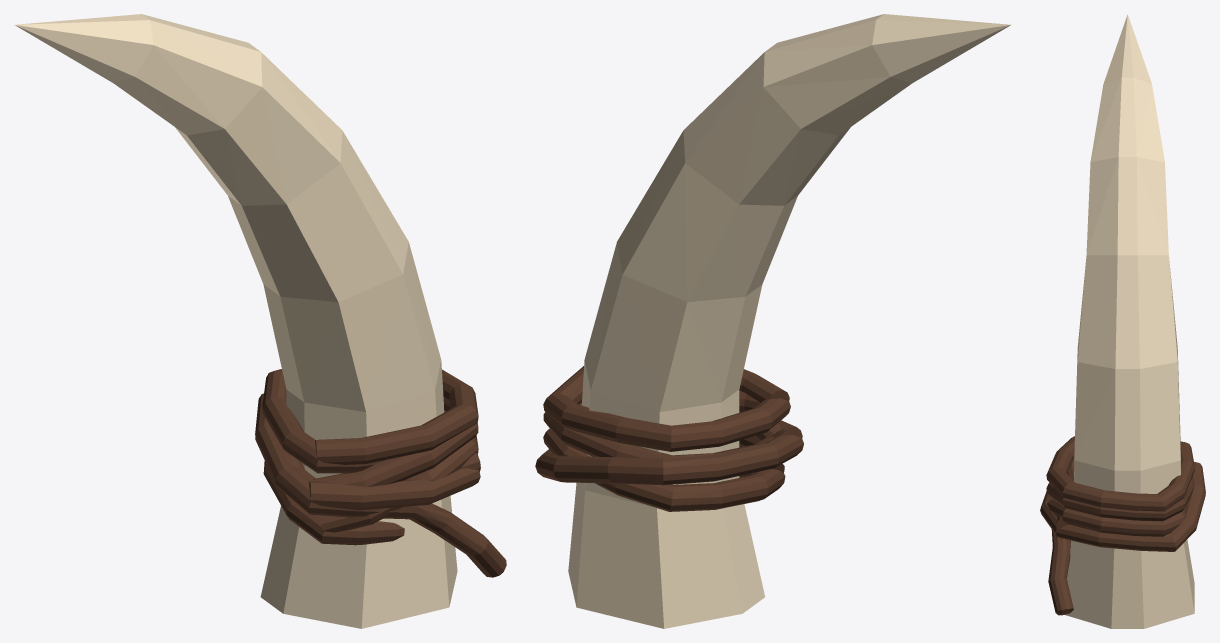
File: SM_spike_roped.fbx
The picture shows the model from 3 angles, left to right: view 1: azimuth 30°, elevation 25°; view 2: azimuth 150°, elevation 25°; view 3: azimuth 270°, elevation 25°; orthographic projection. The views are drawn at different scales.
Parts seen in each view (by area): view 1: spike_roped; view 2: spike_roped; view 3: spike_roped.
Part boxes in pixels (left/top/right/bottom): spike_roped: left=14, top=14, right=506, bottom=628; spike_roped: left=535, top=14, right=1011, bottom=628; spike_roped: left=1040, top=14, right=1205, bottom=628.
Bounding box in the file's own units: 105 × 144 × 46.81.
